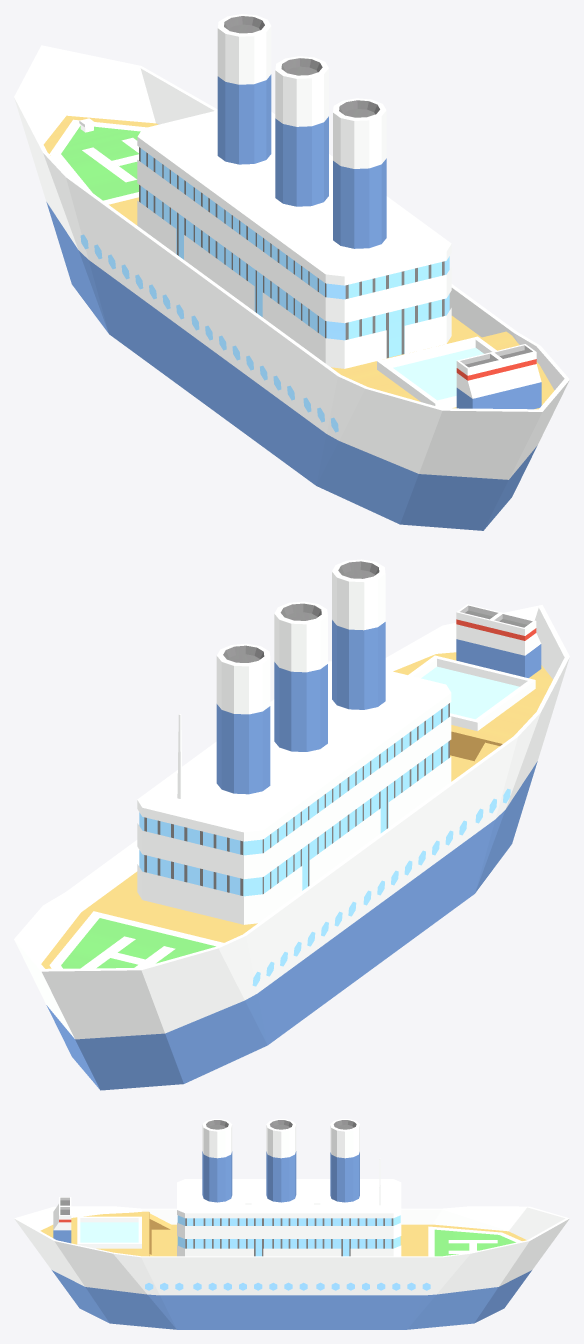
File: transport_water.001.glb
3 views of the same model, one above another, from view 1: azimuth 30°, elevation 25°; view 2: azimuth 150°, elevation 25°; view 3: azimuth 270°, elevation 25° (orthographic). The views are drawn at different scales.
Visible parts, largest first — view 1: transport_water.001(Clone); view 2: transport_water.001(Clone); view 3: transport_water.001(Clone).
Boxes of the visible parts, left/top/right/bottom form: transport_water.001(Clone): left=14, top=14, right=569, bottom=530; transport_water.001(Clone): left=14, top=559, right=569, bottom=1090; transport_water.001(Clone): left=14, top=1119, right=569, bottom=1329.
Size of the model in its own units: 7.68 by 13.48 by 37.
Materials: 1 (1 with a texture image).
